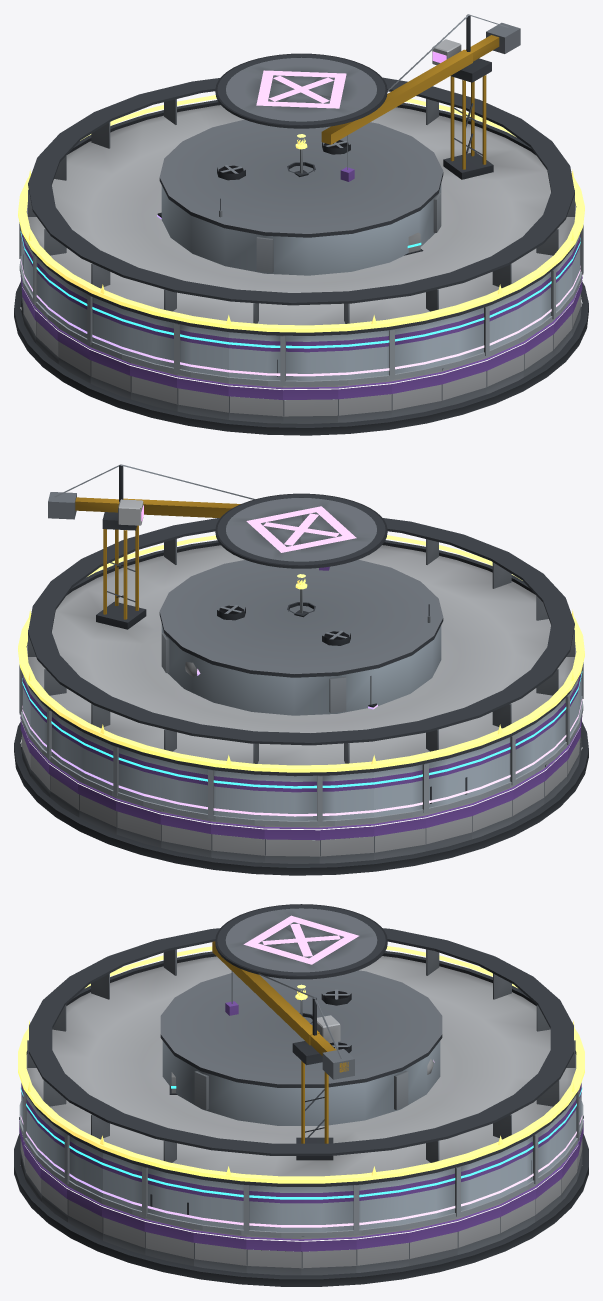
Rendered from cold_storage_l_far.glb.
The picture shows the model from 3 angles, top to bottom: view 1: azimuth 30°, elevation 25°; view 2: azimuth 150°, elevation 25°; view 3: azimuth 270°, elevation 25°; orthographic projection.
Visible parts, largest first — view 1: Roof, Base, L5, L2, L3, L4; view 2: Roof, Base, L5, L2, L4, L3; view 3: Roof, Base, L5, L2, L3, L4.
Part boxes in pixels (x1,y1,x2,y2): Roof: (19, 14, 583, 384); Base: (14, 275, 588, 435); L5: (18, 95, 584, 332); L2: (19, 198, 581, 386); L3: (20, 231, 580, 348); L4: (20, 212, 580, 376); Roof: (19, 464, 583, 824); Base: (14, 715, 588, 875); L5: (18, 535, 584, 772); L2: (21, 604, 583, 826); L4: (22, 662, 582, 816); L3: (22, 671, 582, 788); Roof: (21, 904, 581, 1234); Base: (14, 1115, 588, 1286); L5: (18, 946, 584, 1183); L2: (19, 1101, 583, 1237); L3: (20, 1072, 582, 1199); L4: (20, 1059, 582, 1227).
Size of the model in its own units: 17.16 by 8.33 by 17.16.
